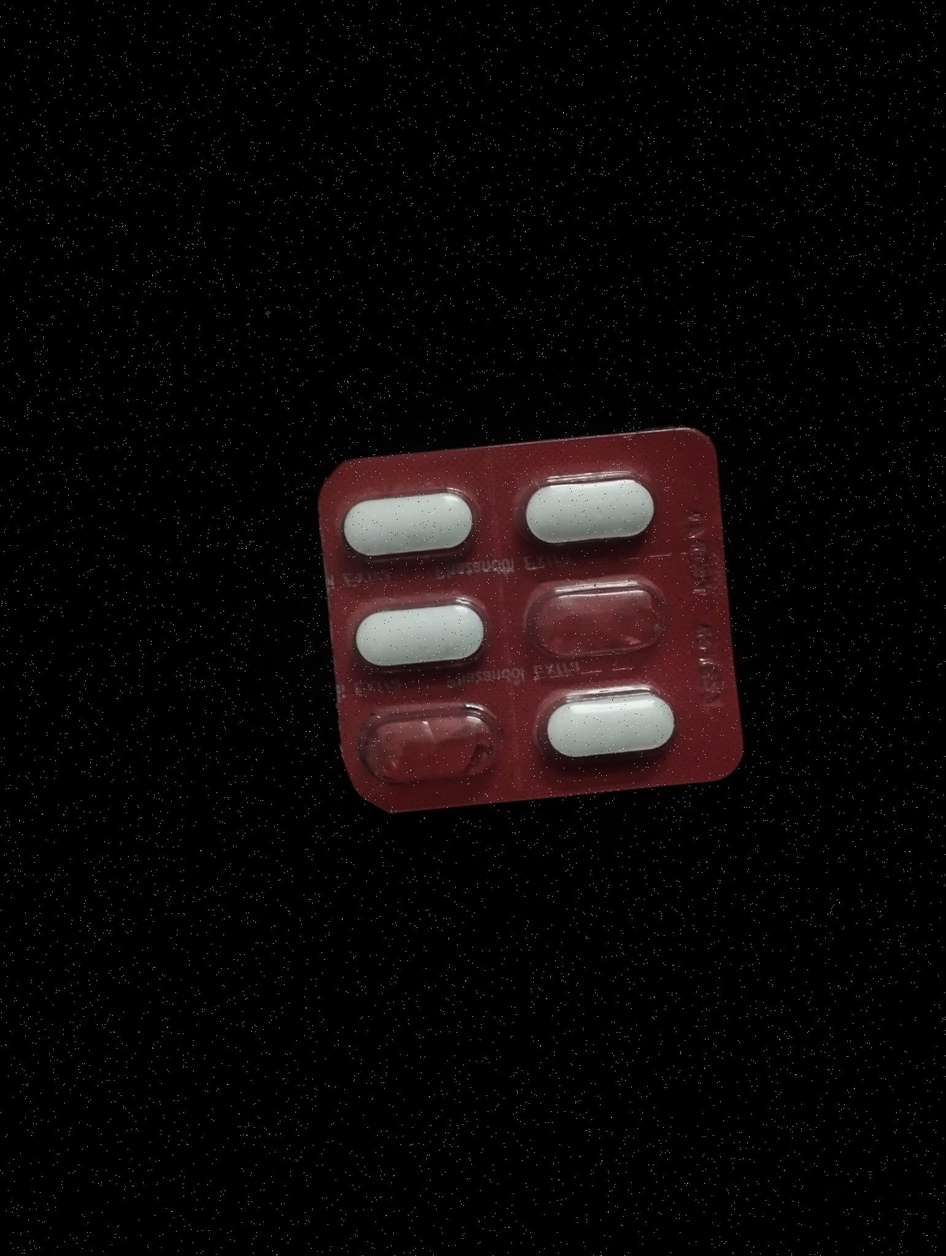Empty: (515, 571, 676, 668), (349, 699, 501, 797)
Full: (522, 679, 680, 764), (345, 593, 498, 676), (336, 476, 480, 564), (521, 468, 663, 553)
